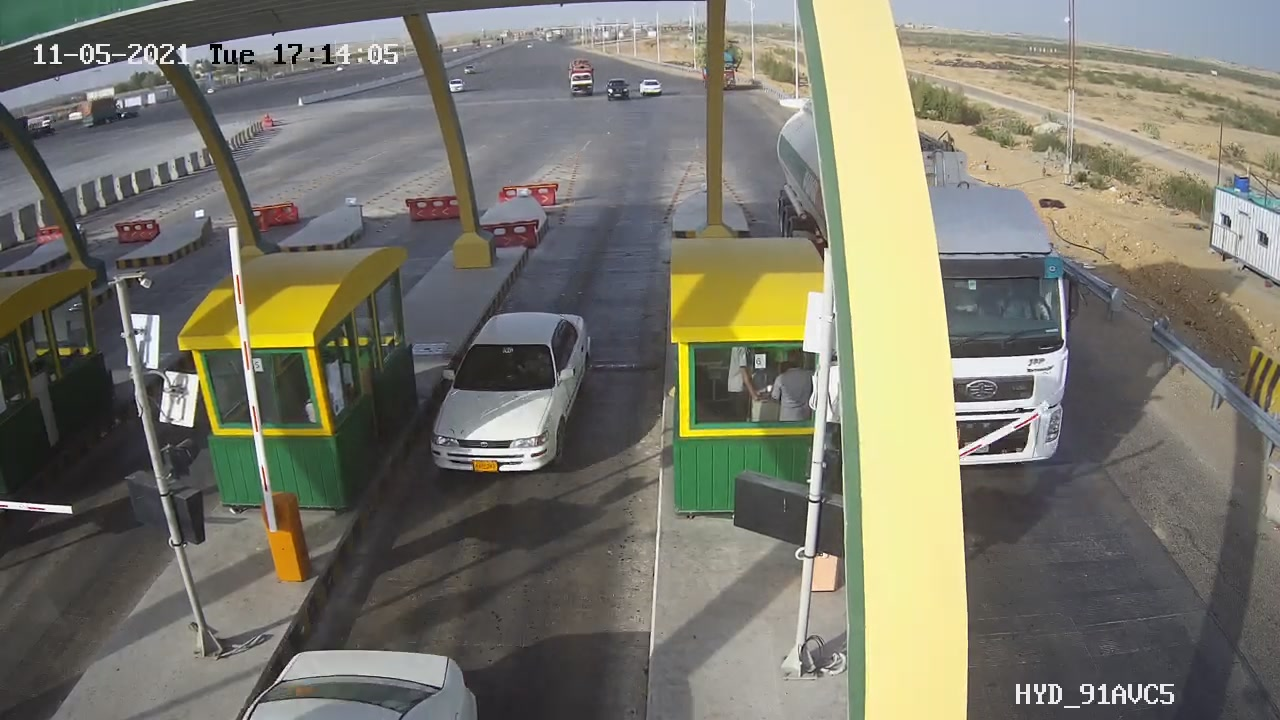F1: (414, 295, 600, 498)
